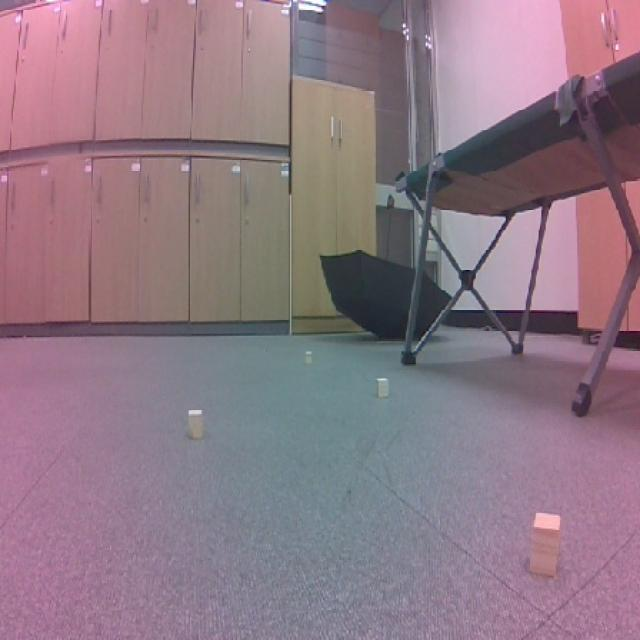obstacle: (517, 504, 576, 579), (181, 402, 212, 450), (369, 370, 394, 402)
